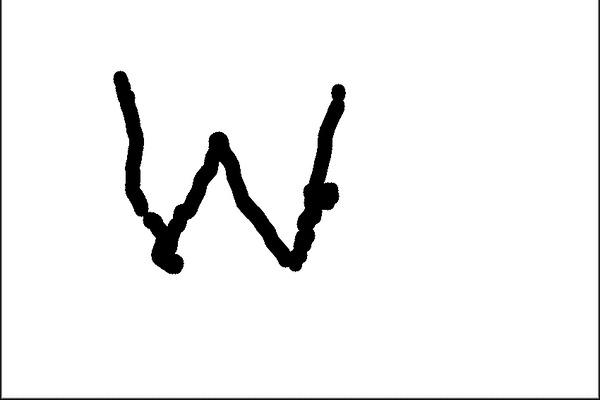w: (99, 51, 359, 290)
